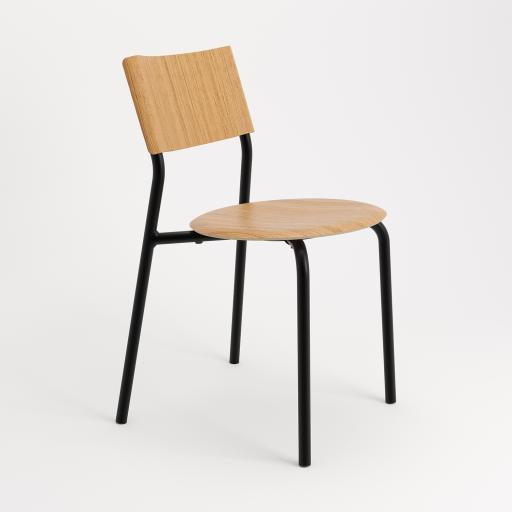chair: (99, 42, 413, 478)
